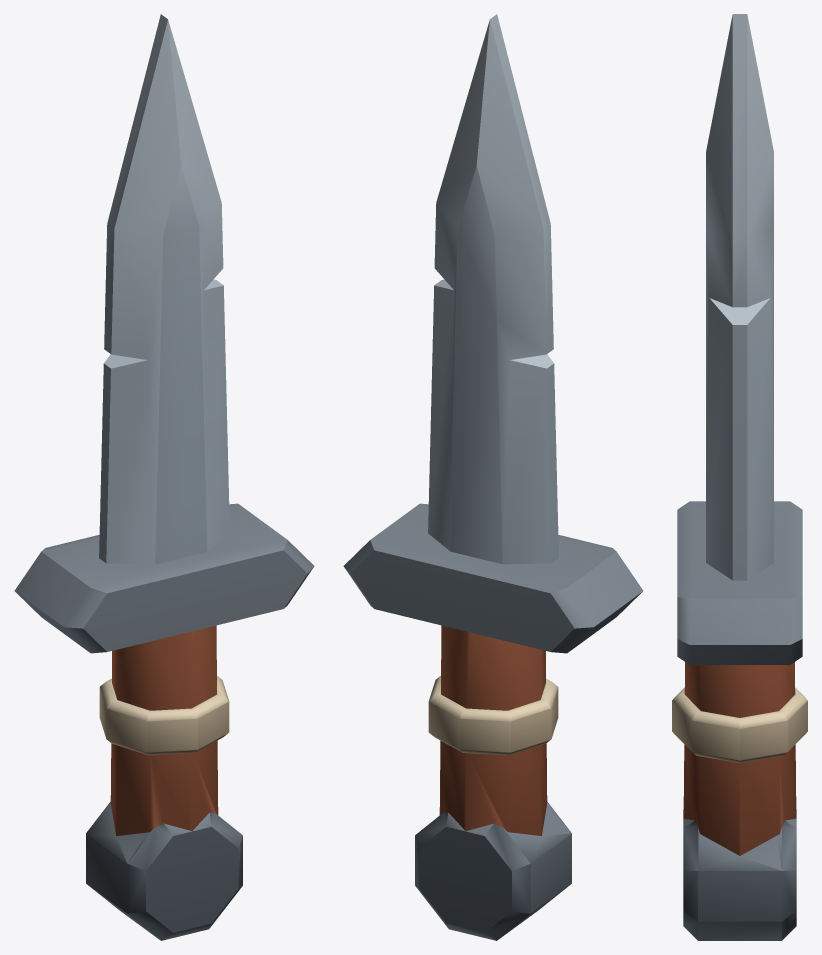
Rendered from dagger_short.glb.
3 renders of one model, left to right at view 1: azimuth 30°, elevation 25°; view 2: azimuth 150°, elevation 25°; view 3: azimuth 270°, elevation 25°, orthographic.
Parts seen in each view (by area): view 1: Item; view 2: Item; view 3: Item.
Part boxes in pixels (x1,y1,x2,y2): Item: [14, 14, 314, 940]; Item: [343, 14, 643, 940]; Item: [672, 14, 807, 940].
Bounding box in the file's own units: 0.28 × 0.9647 × 0.1299.
Materials: 2 (2 with a texture image).
